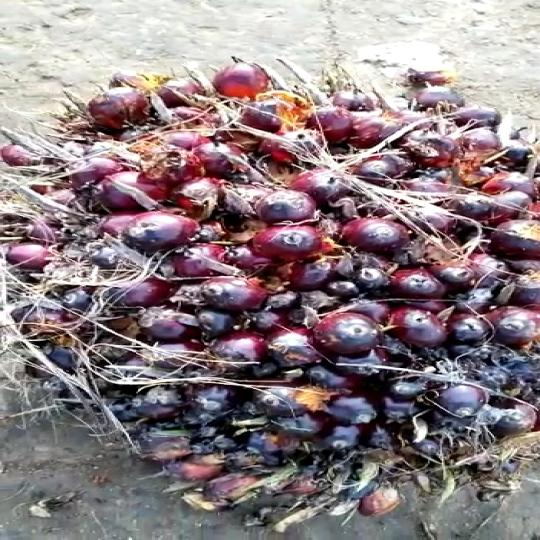masak: (0, 47, 540, 524)
